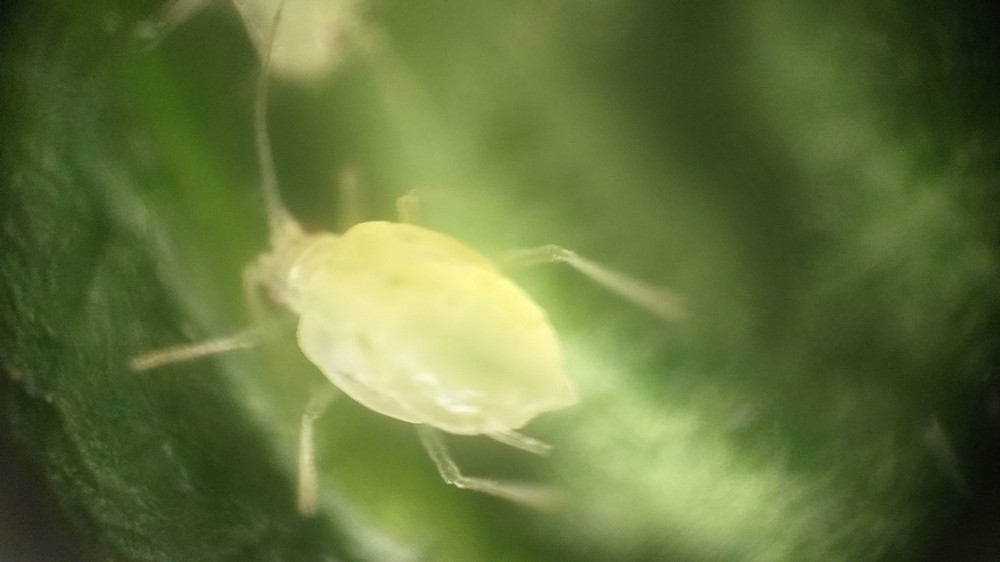Pulgon: (152, 84, 705, 529)
